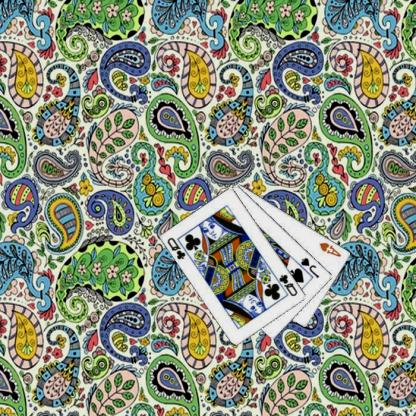AH: (317, 239, 342, 258)
JS: (298, 255, 320, 279)
QC: (276, 272, 299, 298), (165, 235, 187, 261)
